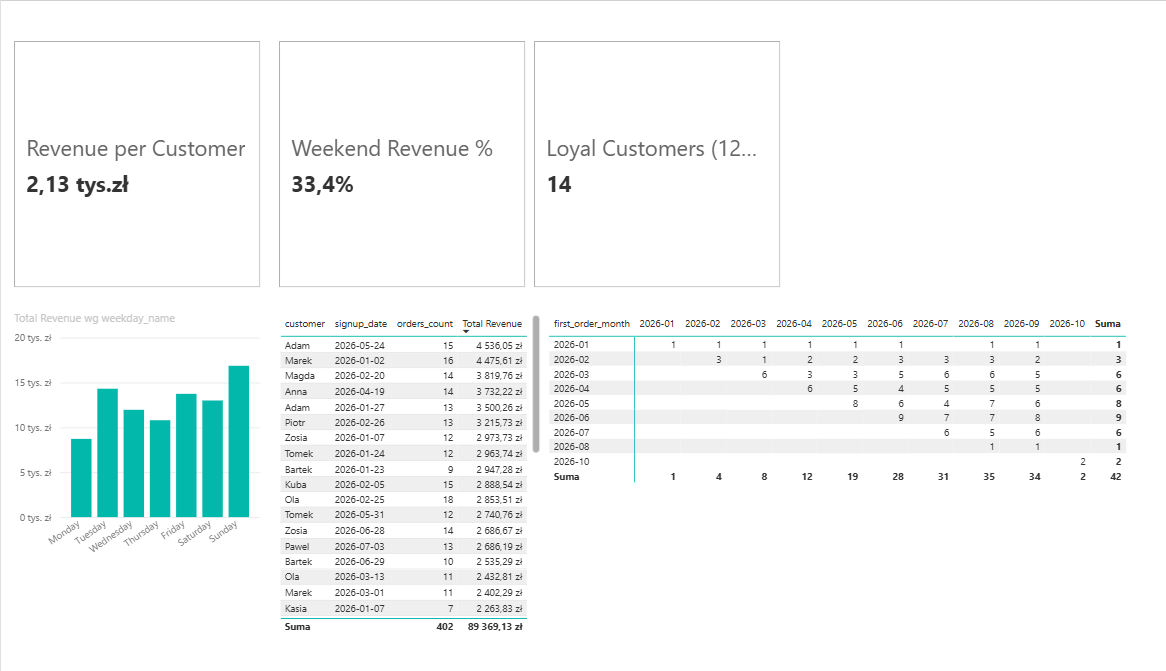

Layout of this report page (visuals, bound fields, positions):
{"tool":"powerbi","page":{"name":"Customers","canvas":[1280,720],"ordinal":2},"visuals":[{"type":"cardVisual","fields":{"Data":["fact_sales.Revenue per Customer"]},"box":[10,20,280,280],"z":0},{"type":"cardVisual","fields":{"Data":["fact_sales.Loyal Customers (12+ orders)"]},"box":[580.4,20.6,280,280],"z":1},{"type":"cardVisual","fields":{"Data":["fact_sales.Weekend Revenue %"]},"box":[300,20,280,280],"z":2},{"type":"clusteredColumnChart","fields":{"Category":["dim_date.weekday_name"],"Y":["fact_sales.Total Revenue"]},"box":[10,321,280,280],"z":3},{"type":"tableEx","fields":{"Values":["dim_customer.customer","dim_customer.signup_date","Sum(dim_customer.orders_count)","fact_sales.Total Revenue"]},"box":[300.5,321.1,296.4,359.5],"z":4},{"type":"pivotTable","fields":{"Columns":["dim_date.year_month"],"Rows":["dim_customer.first_order_month"],"Values":["fact_sales.Buying Customers"]},"box":[596.9,321.1,662.8,359.5],"z":5}]}

Visuals, with their boxes in screenshot pixels (x1, y1, x2, y2), scaled from the page's 1280x720 canvas onto the 1166x671 screenshot:
cardVisual - fact_sales.Revenue per Customer: select_region(9, 19, 264, 280)
cardVisual - fact_sales.Loyal Customers (12+ orders): select_region(529, 19, 784, 280)
cardVisual - fact_sales.Weekend Revenue %: select_region(273, 19, 528, 280)
clusteredColumnChart - dim_date.weekday_name x fact_sales.Total Revenue: select_region(9, 299, 264, 560)
tableEx - dim_customer.customer x dim_customer.signup_date: select_region(274, 299, 544, 634)
pivotTable - dim_date.year_month x dim_customer.first_order_month: select_region(544, 299, 1148, 634)
